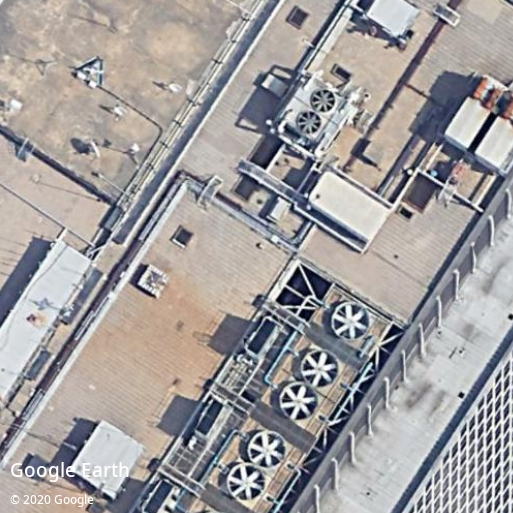Vent: (331, 302, 369, 341), (300, 349, 338, 388), (279, 383, 317, 422), (247, 431, 286, 469), (227, 464, 266, 502), (310, 89, 335, 113), (298, 111, 321, 134)
